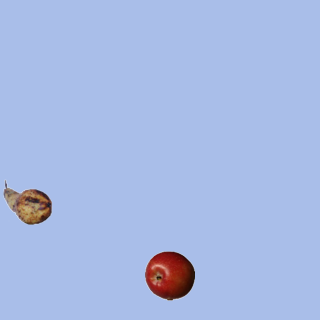Apple Braeburn: (144, 250, 194, 300)
Pear Abate: (2, 177, 52, 227)
